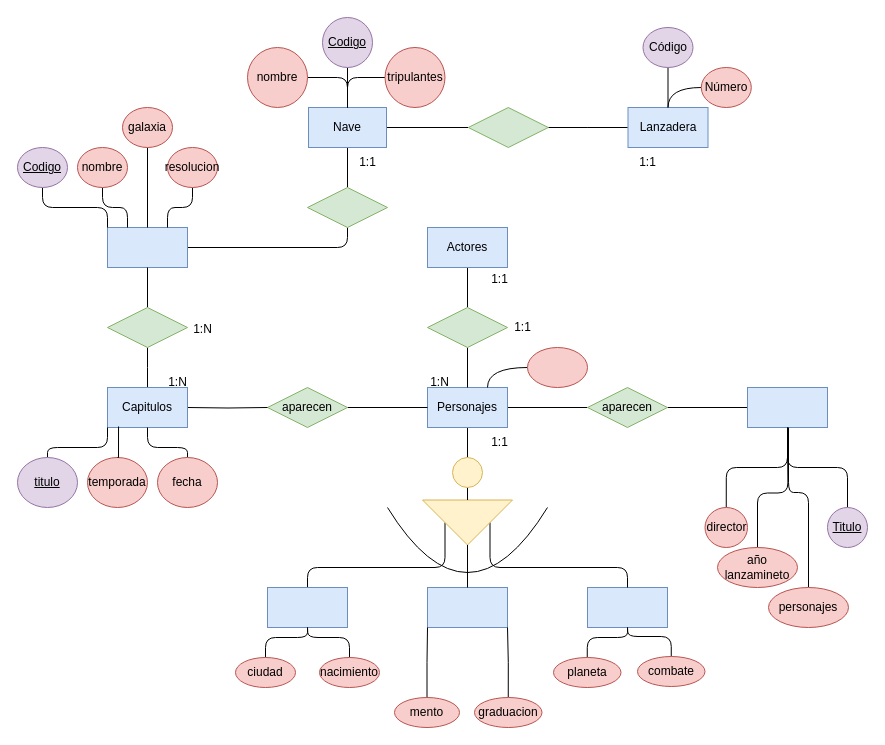
The diagram is 885 pixels wide and 745 high, and some of its shapes have lost their labels. The shapes that lost their labels are listed below. From the top down, each one's box as (x1, y1, x2, y2) in pixels, then its label:
(467, 106, 548, 148): usa
(306, 186, 388, 228): Viaje
(106, 226, 188, 268): Planetas
(106, 306, 188, 348): visitan
(426, 306, 508, 348): interpretan
(526, 346, 588, 388): Rango
(746, 386, 828, 428): Peliculas
(266, 586, 348, 628): Humano
(426, 586, 508, 628): Vulcaniano
(586, 586, 668, 628): Klingon
